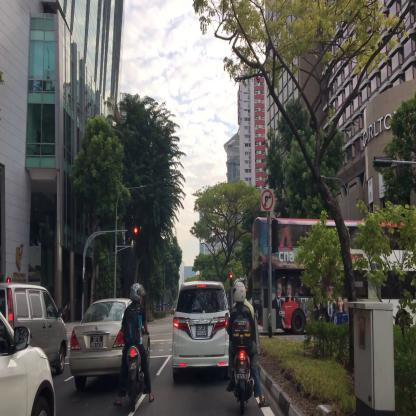red_traffic_light: (127, 227, 138, 234), (230, 274, 232, 286)
